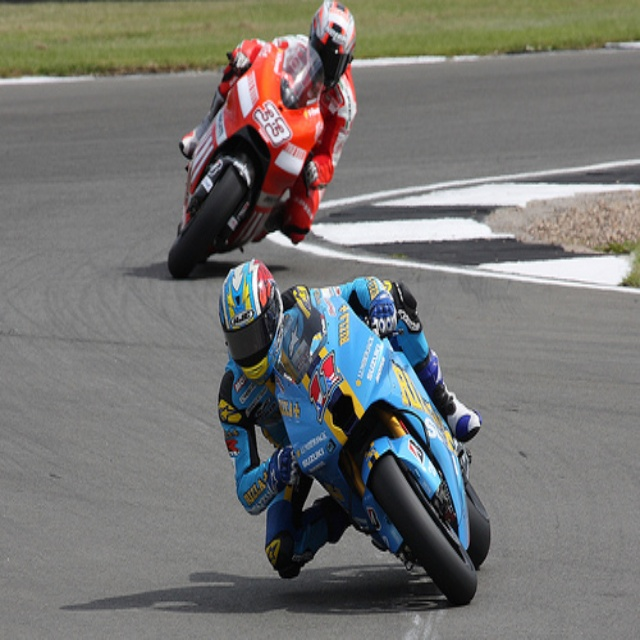Motorcycle: (275, 298, 493, 605), (168, 38, 324, 279)
